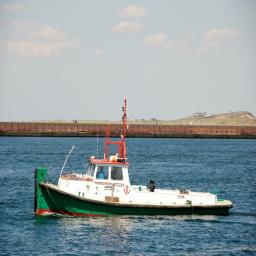tugboat: (33, 98, 235, 224)
